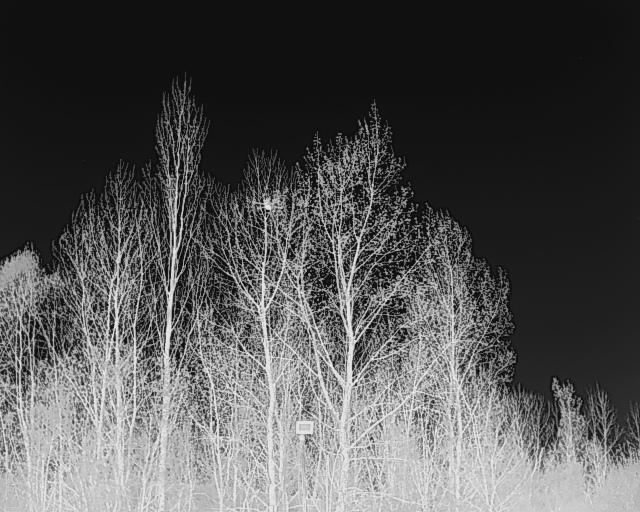drone: (250, 203, 284, 220)
